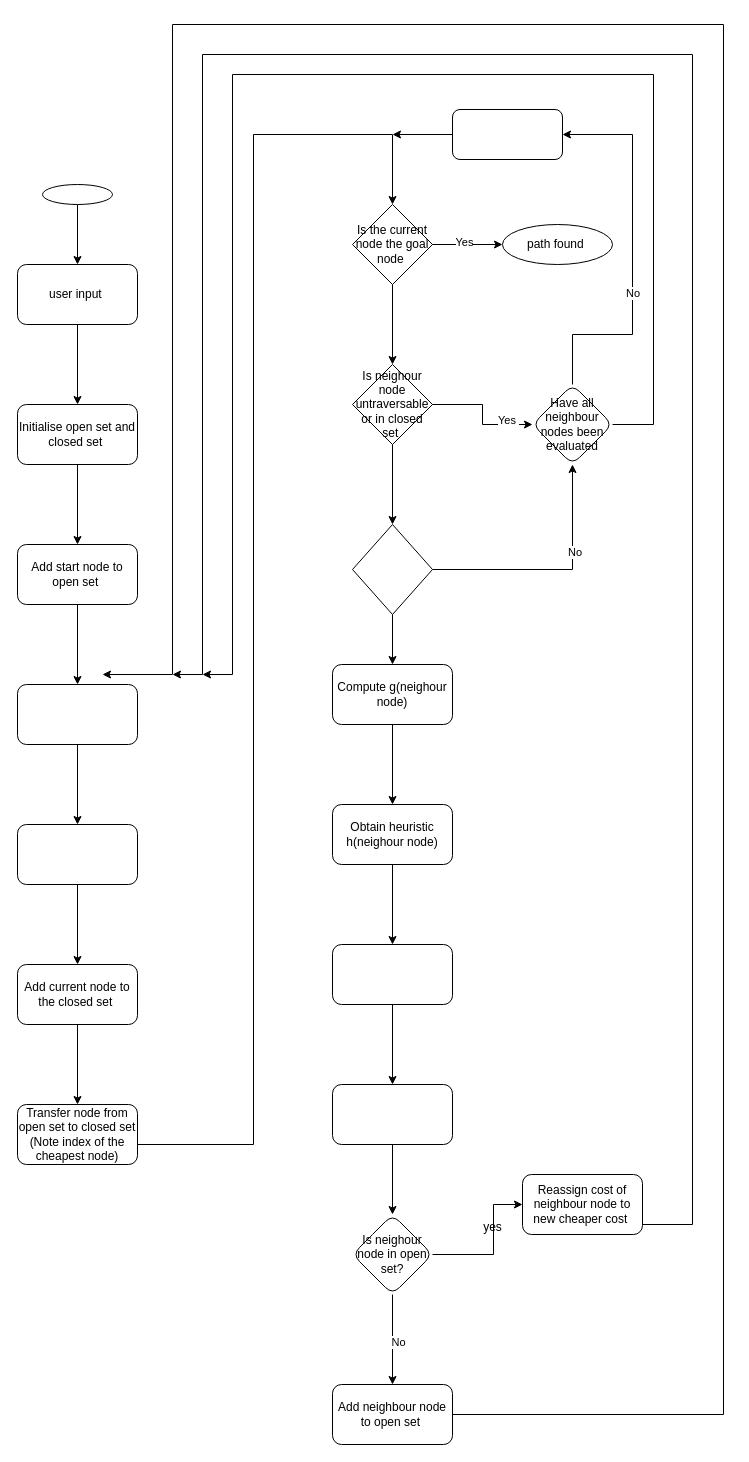
Image size: 749x1462. Some labels were removed from this diagram. Each missing label, with the centre of its shape:
Compute f(neighbour node) = g(neighbour node) + h(neighbour node): the point at 392,974
Is neighour node not in open set or is new path to it cheaper: the point at 392,569
Move to next neighbour node: the point at 507,134
Remove current node from the open set: the point at 77,854
Set parent node of neighbour node to current node: the point at 392,1114
Set the current node to the cheapest node in the open set: the point at 77,714
Start: the point at 77,194
